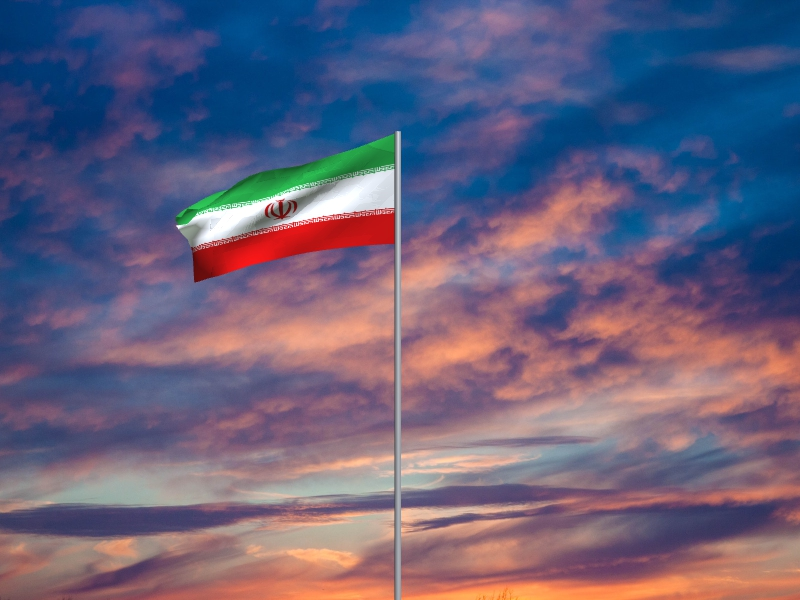ir: (175, 135, 395, 284)
